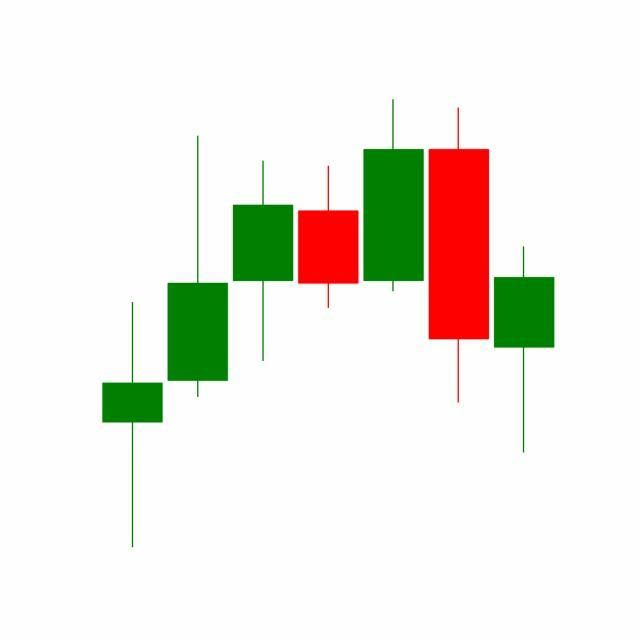Hikkake Pattern: (165, 100, 492, 408)
